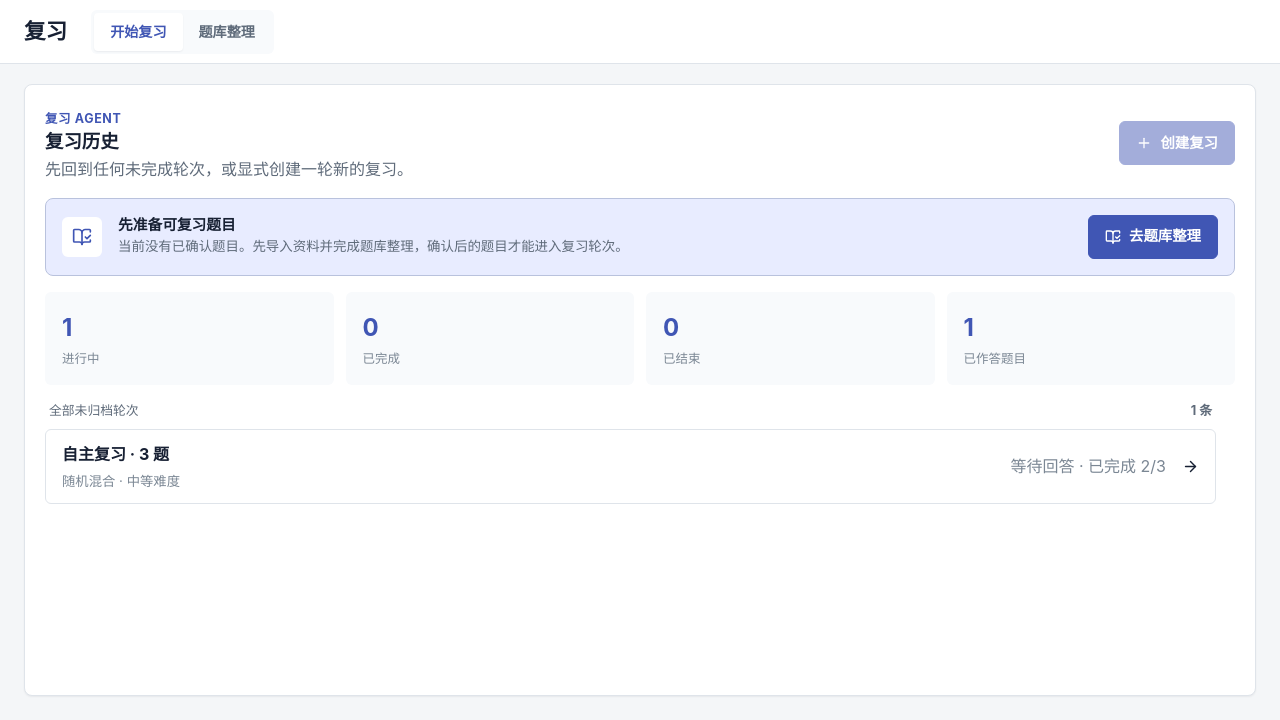
Test: R2 ReviewPage › opens completed and skipped questions in read-only review mode and returns to the active question
Click the button "3 题" at (94, 454), box 46,430 -> 1215,504
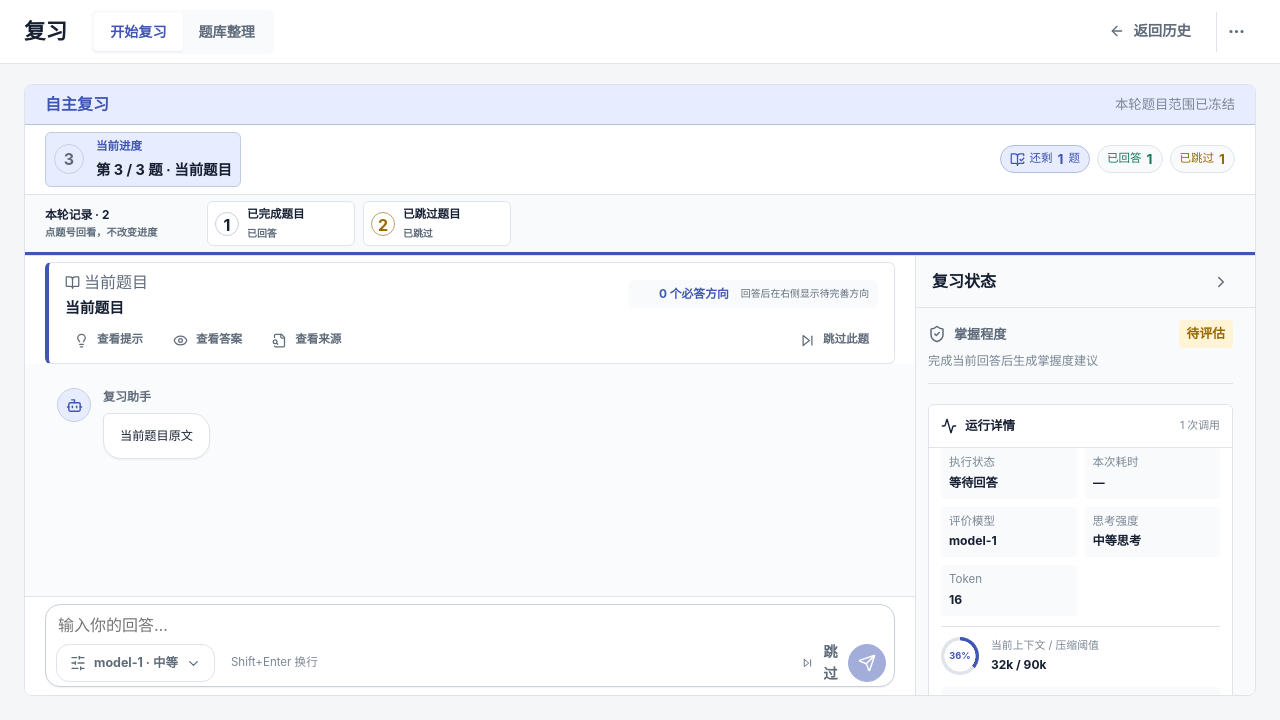
Now the element named "本轮答题统计" shows "还剩 1 题", box 1000,145 -> 1235,173
Now the element named "本轮答题统计" shows "已回答 1", box 1000,145 -> 1235,173
Now the element named "本轮答题统计" shows "已跳过 1", box 1000,145 -> 1235,173
Click the button with aria-label "回看第 1 题：已完成题目，已回答" at (281, 224), box 207,201 -> 355,246
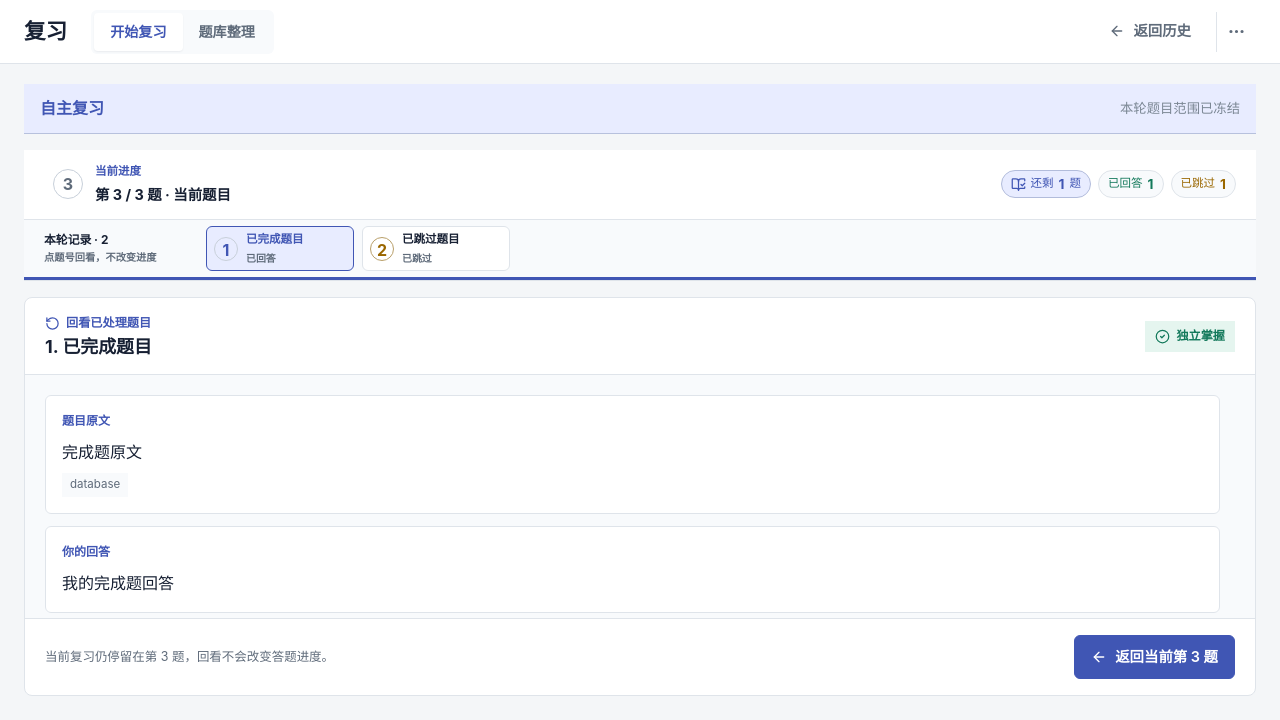
Now the element named "回看第 1 题" shows "我的完成题回答", box 62,573 -> 174,593
Click the button "返回当前第 3 题" at (1155, 657), box 1074,635 -> 1235,679
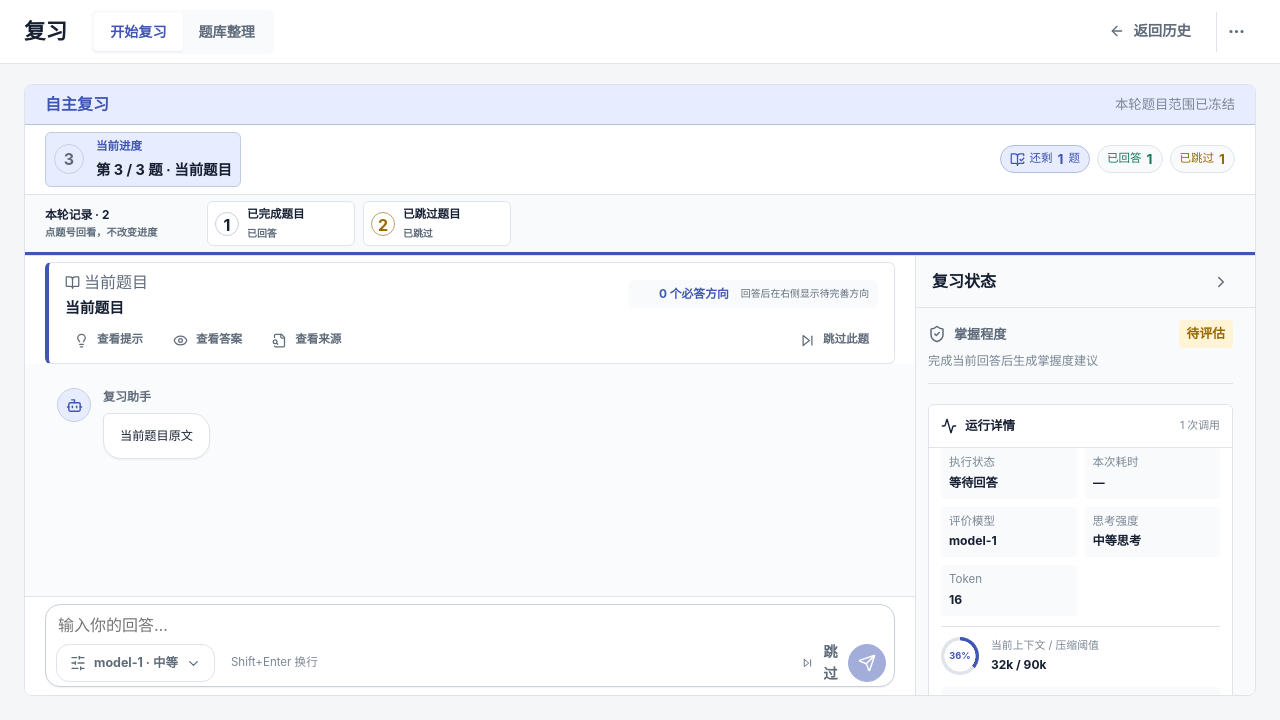
Click the button with aria-label "回看第 2 题：已跳过题目，已跳过" at (437, 224), box 363,201 -> 511,246
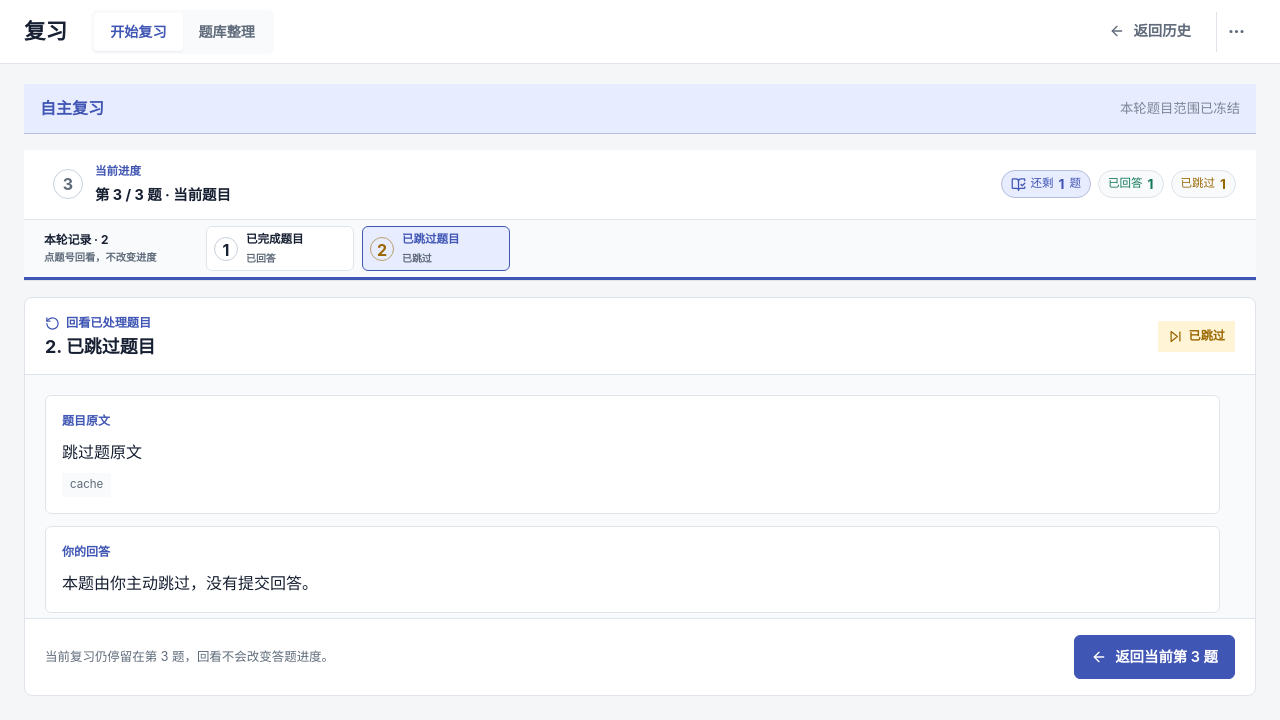
Now the element named "回看第 2 题" shows "主动跳过", box 62,573 -> 318,593
Now the element named "回看第 2 题" shows "回看不会改变答题进度", box 168,649 -> 334,664
